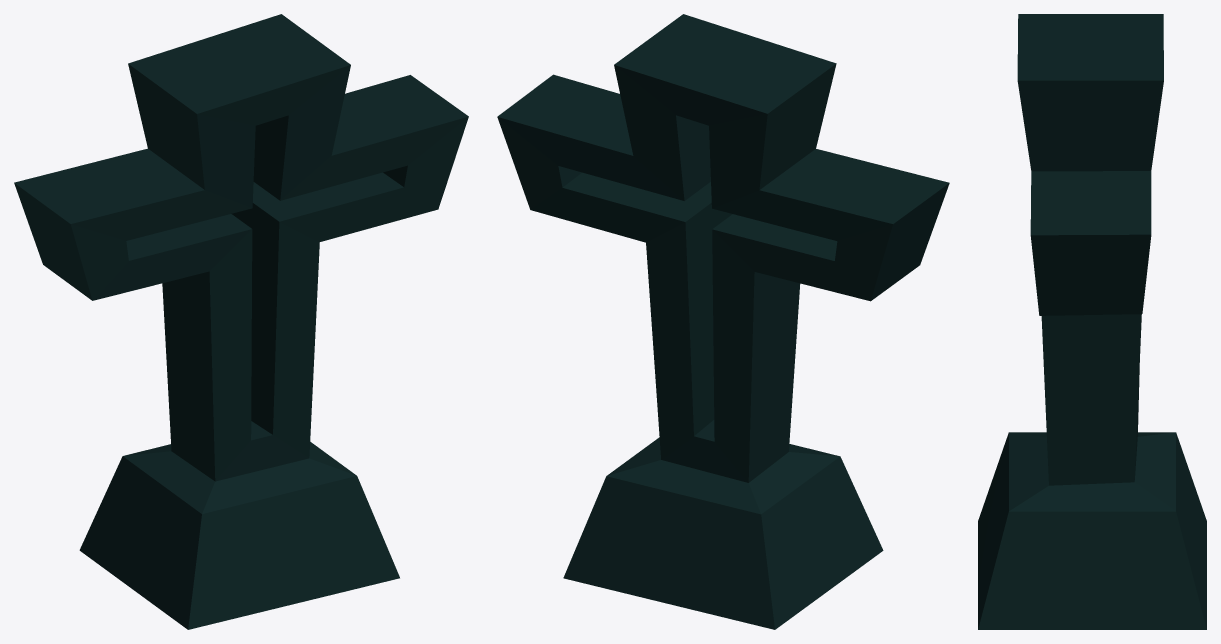
Rendered from cross_016_stone_0_lev1.glb.
The picture shows the model from 3 angles, left to right: view 1: azimuth 30°, elevation 25°; view 2: azimuth 150°, elevation 25°; view 3: azimuth 270°, elevation 25°; orthographic projection. The views are drawn at different scales.
Visible parts, largest first — view 1: cross_016_stone_0_lev1; view 2: cross_016_stone_0_lev1; view 3: cross_016_stone_0_lev1.
Part boxes in pixels (x1,y1,x2,y2): cross_016_stone_0_lev1: (14,14,468,629); cross_016_stone_0_lev1: (497,14,949,629); cross_016_stone_0_lev1: (978,14,1206,629).
Bounding box in the file's own units: 0.5065 × 0.6169 × 0.2397.
